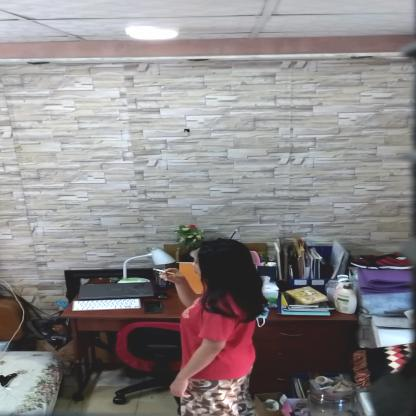cigarette: (152, 268, 176, 276)
person: (174, 238, 265, 415)
